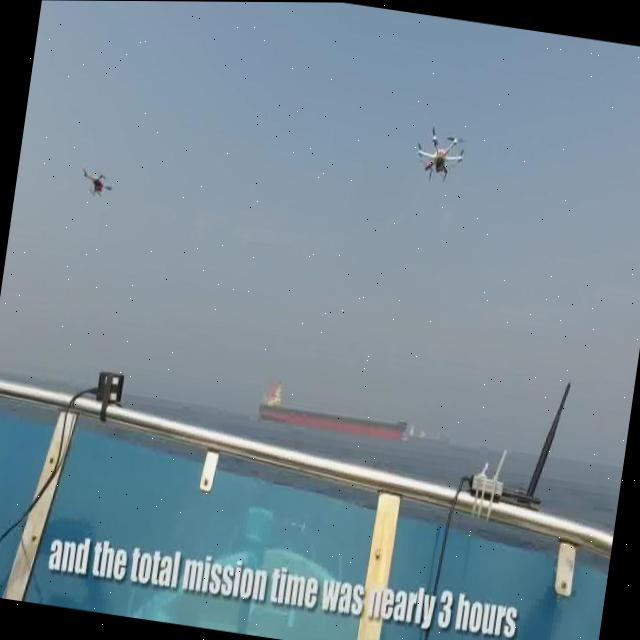drone: (410, 118, 470, 188), (78, 163, 116, 202)
